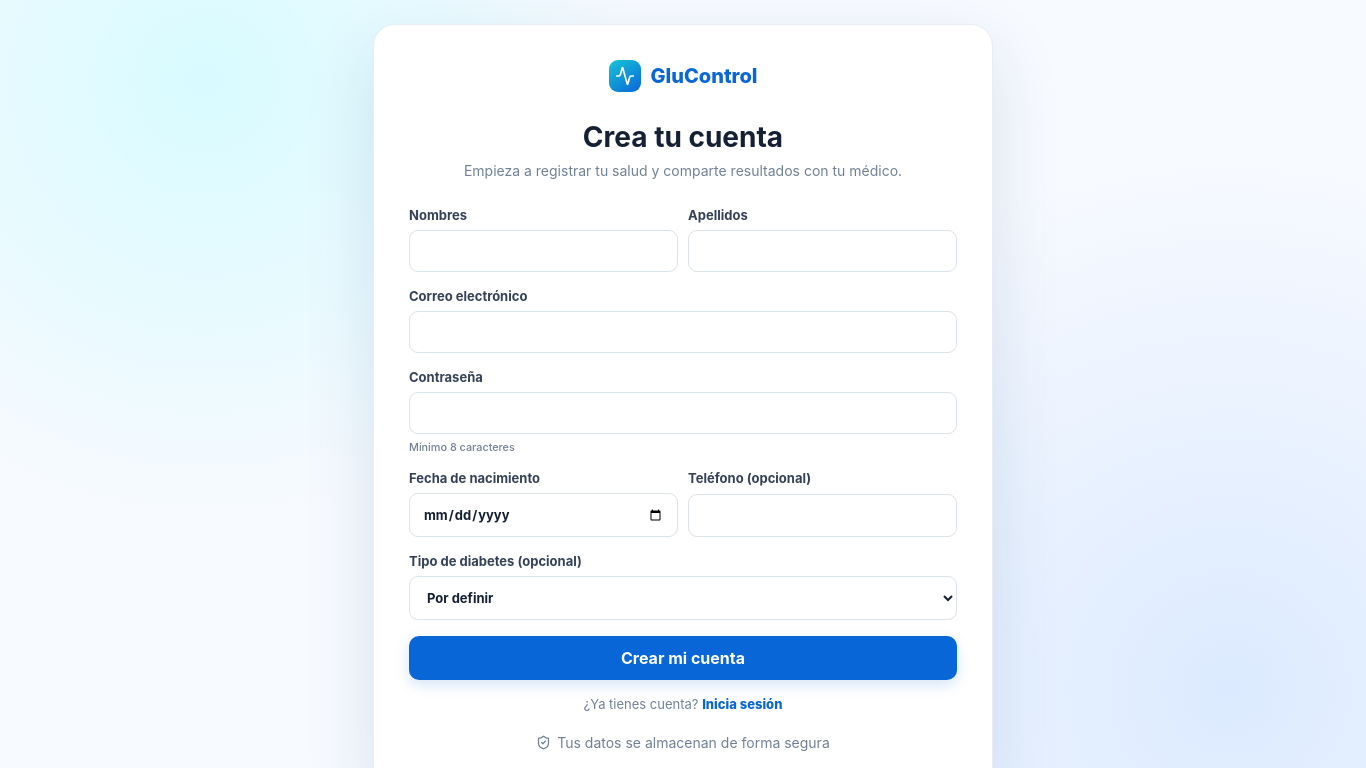
Test: GluControl por rol › ofrece registro público y crea una sesión de paciente
Step 1. Type "Ana" into the field labelled "Nombres" → (544, 251), box [409,230,678,272]
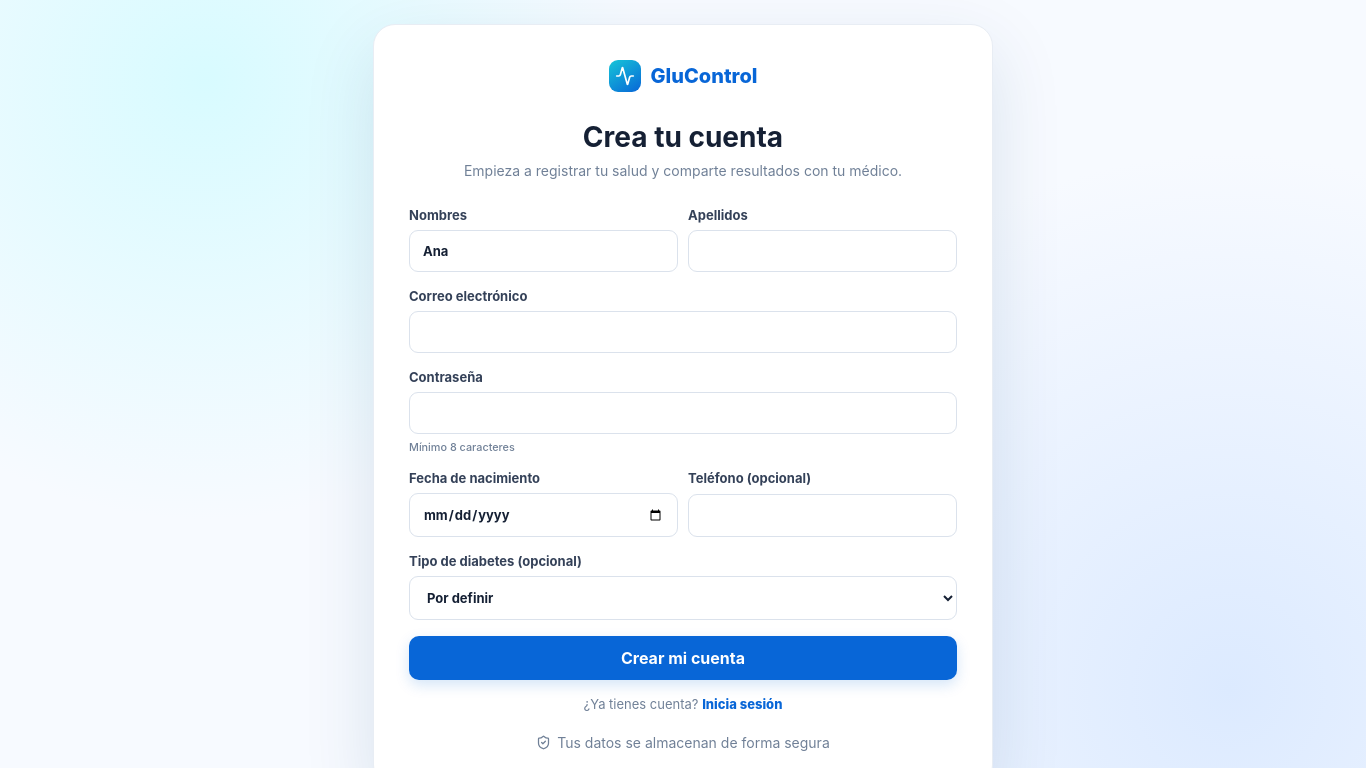
Step 2. Type "Torres" into the field labelled "Apellidos" → (822, 251), box [688,230,957,272]
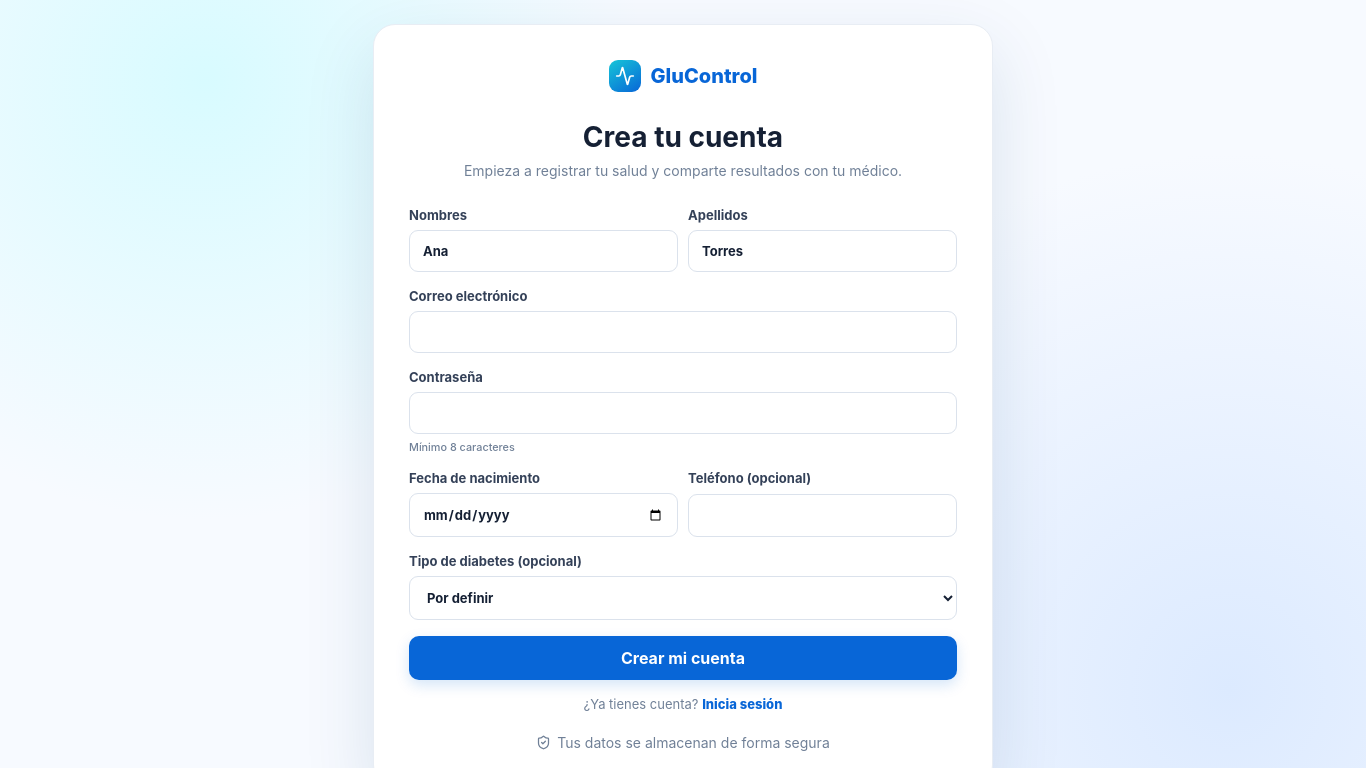
Step 3. Type "ana@example.com" into the field labelled "Correo electrónico" → (683, 332), box [409,311,957,353]
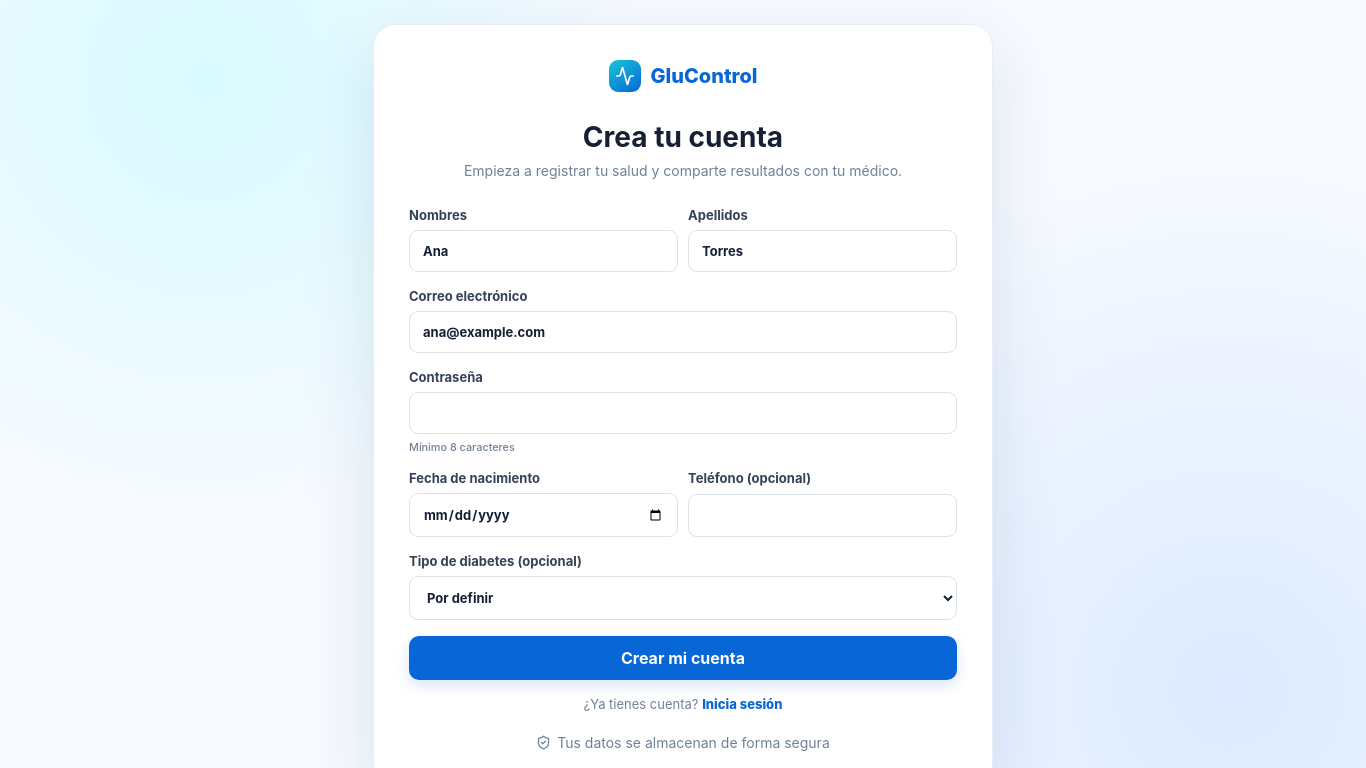
Step 4. Type "segura123" into the password field labelled "Contraseña Mínimo 8 caracteres" → (683, 413), box [409,392,957,434]
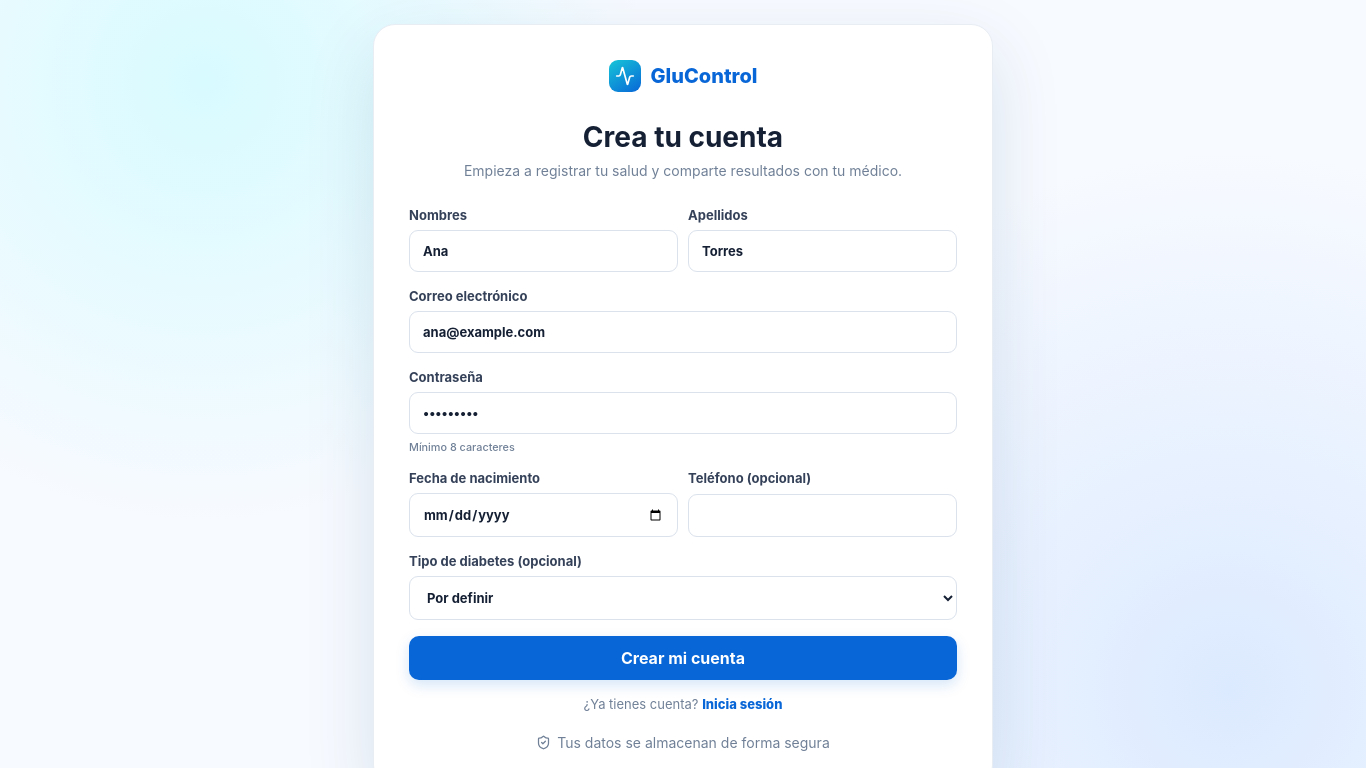
Step 5. Click the button "Crear mi cuenta" → (683, 658), box [409,636,957,680]
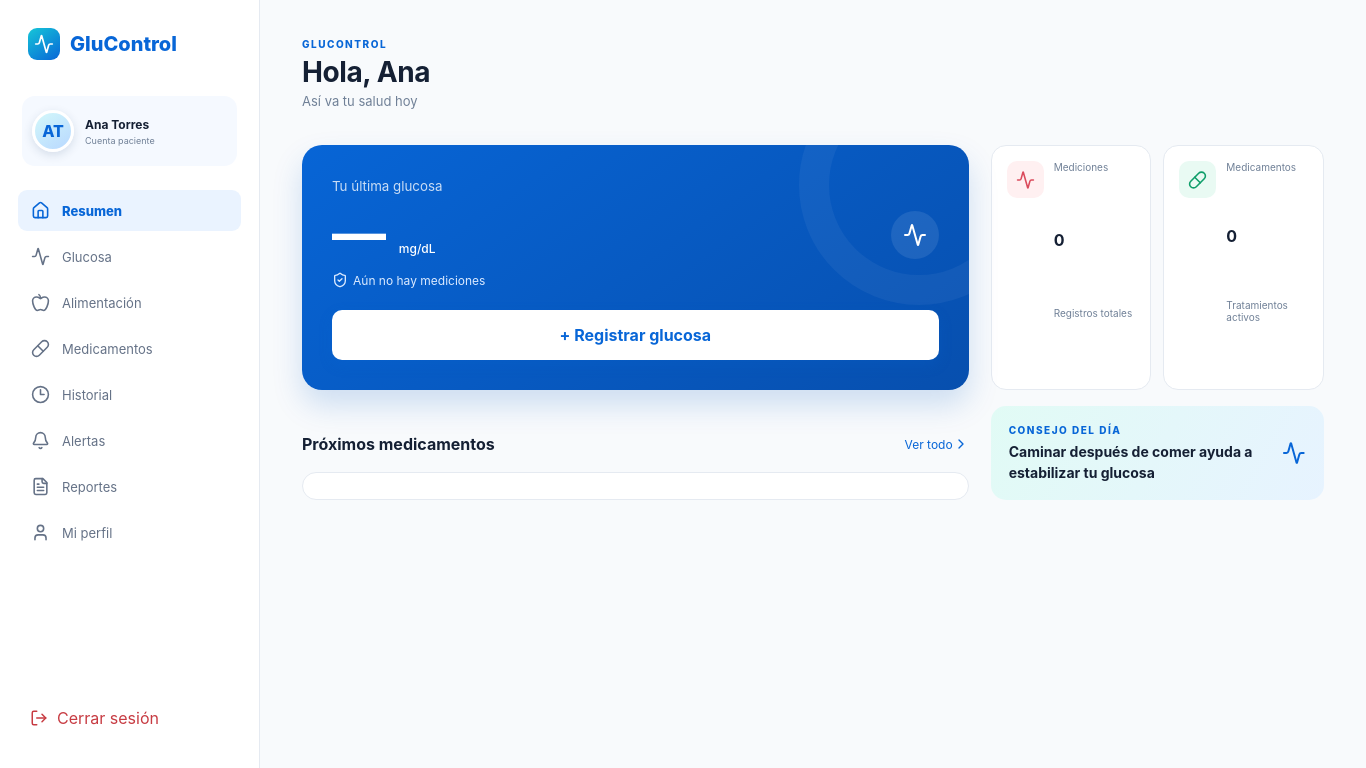
Expected: the heading "Hola, Ana" is shown, [302,55,430,89]
